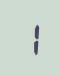one: (19, 20, 39, 55)
